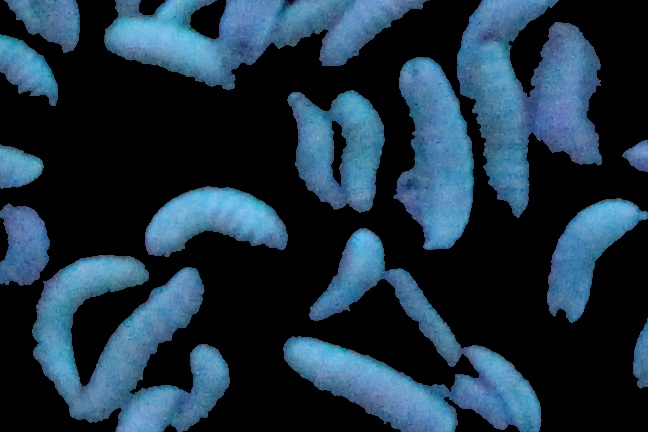larvae: (74, 266, 222, 432), (85, 267, 203, 432), (277, 337, 460, 432), (31, 256, 147, 405), (395, 58, 472, 249), (533, 28, 610, 189), (542, 198, 640, 323), (144, 182, 290, 264), (466, 43, 531, 215), (104, 22, 234, 90), (464, 343, 553, 432), (382, 263, 460, 364), (318, 1, 433, 67), (309, 227, 387, 323), (326, 90, 383, 214), (288, 91, 342, 209), (456, 1, 558, 53), (1, 35, 64, 108), (8, 1, 84, 55), (210, 1, 275, 62), (185, 345, 231, 431), (1, 200, 45, 286), (271, 1, 346, 49), (449, 374, 515, 428), (116, 387, 187, 432), (1, 138, 47, 197)
